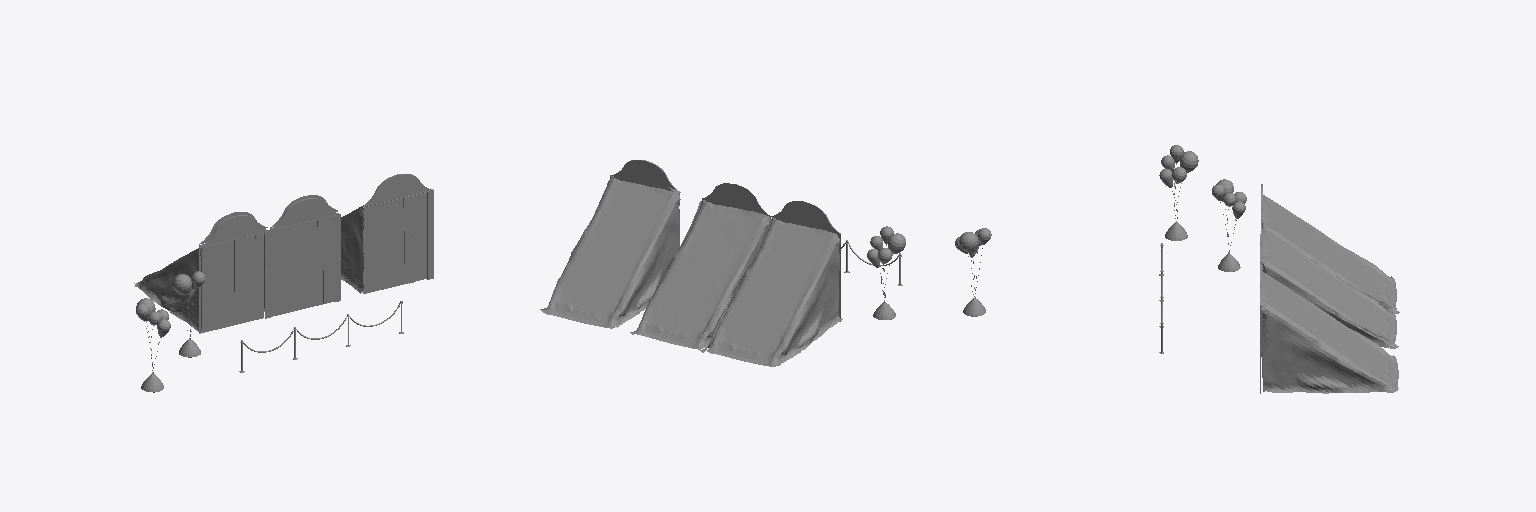
File: carpa.obj
3 views of the same model, side by side, from view 1: azimuth 30°, elevation 25°; view 2: azimuth 150°, elevation 25°; view 3: azimuth 270°, elevation 25° (orthographic).
Visible parts, largest first — view 1: model_13, model_12, model_7, model_0, model_18, model_1, GlobosPoste1, GlobosPoste2; view 2: model_18, model_0, model_1, model_12, model_13, GlobosPoste2, model_7, GlobosPoste1; view 3: model_7, model_18, model_1, model_0, GlobosPoste1, model_13, GlobosPoste2.
Part boxes in pixels (left/top/right/bottom): model_13: left=270, top=195, right=337, bottom=316; model_12: left=199, top=212, right=267, bottom=333; model_7: left=363, top=192, right=426, bottom=293; model_0: left=134, top=215, right=270, bottom=332; model_18: left=341, top=174, right=433, bottom=293; model_1: left=264, top=198, right=340, bottom=311; GlobosPoste1: left=136, top=298, right=170, bottom=337; GlobosPoste2: left=172, top=271, right=204, bottom=299; model_18: left=543, top=160, right=680, bottom=328; model_0: left=707, top=206, right=842, bottom=366; model_1: left=635, top=200, right=769, bottom=349; model_12: left=700, top=201, right=840, bottom=352; model_13: left=630, top=183, right=770, bottom=334; GlobosPoste2: left=867, top=226, right=905, bottom=267; model_7: left=540, top=163, right=672, bottom=311; GlobosPoste1: left=955, top=228, right=991, bottom=257; model_7: left=1262, top=311, right=1395, bottom=393; model_18: left=1260, top=261, right=1398, bottom=393; model_1: left=1260, top=219, right=1396, bottom=345; model_0: left=1261, top=184, right=1396, bottom=309; GlobosPoste1: left=1159, top=145, right=1198, bottom=187; model_13: left=1262, top=228, right=1398, bottom=348; GlobosPoste2: left=1212, top=179, right=1246, bottom=218.
Size of the model in its own units: 159 by 49.61 by 96.83.